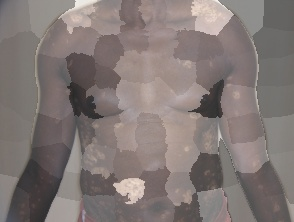vitiligo: (69, 105, 229, 222), (58, 0, 100, 39), (180, 0, 235, 29)
